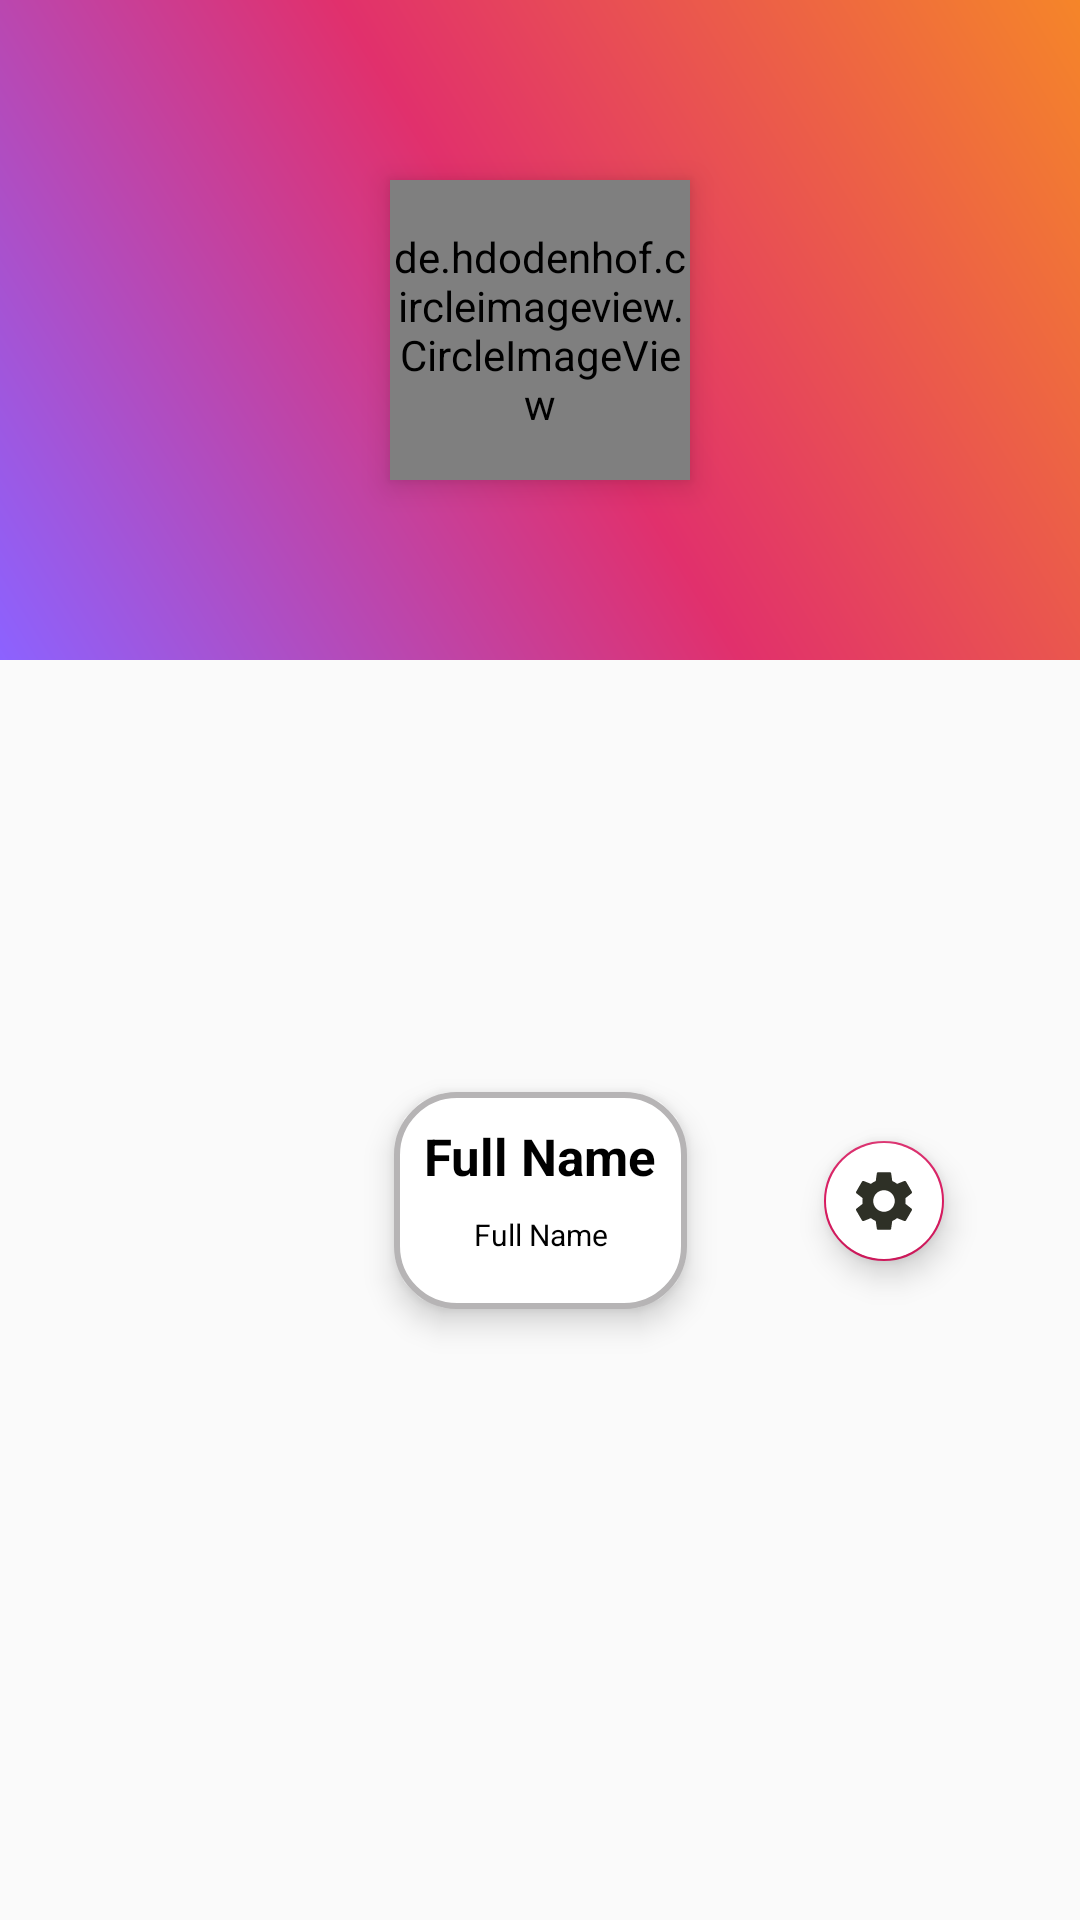

Where to tap for icons on this 1080x1920 app screen, as [x,y]:
setnew: [884,1201]
